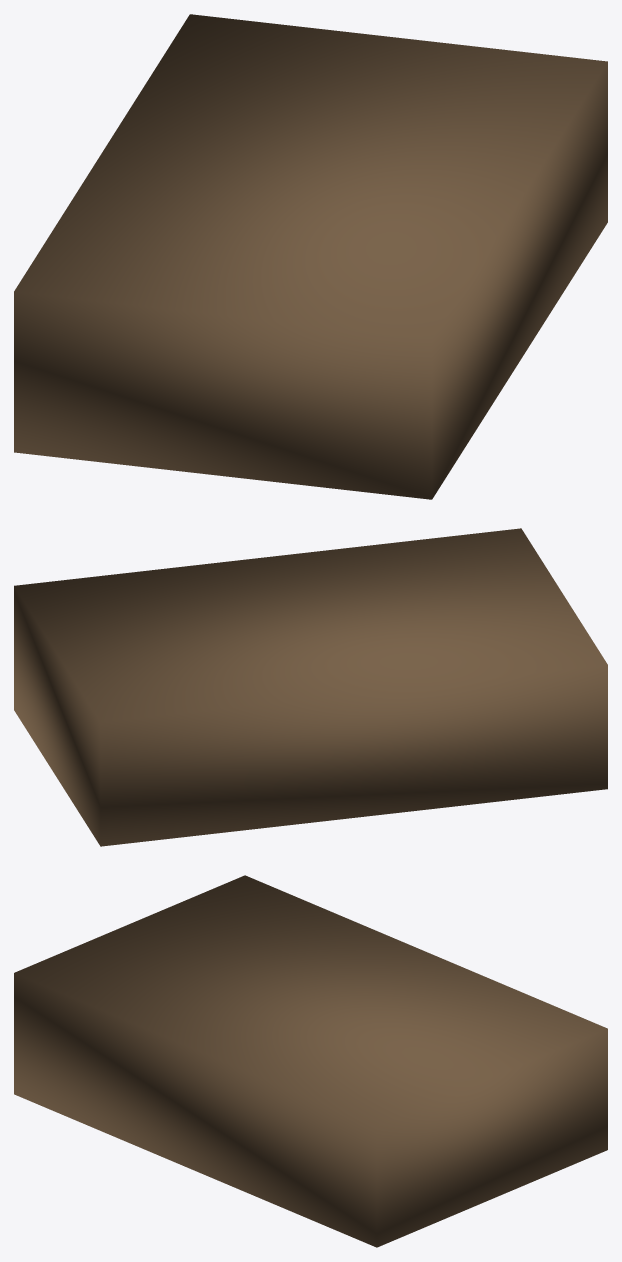
File: rpgpp_ag_wall_connector_bottom_corner_01b_3x3.fbx
3 renders of one model, top to bottom at view 1: azimuth 30°, elevation 25°; view 2: azimuth 150°, elevation 25°; view 3: azimuth 270°, elevation 25°, orthographic. The views are drawn at different scales.
Visible parts, largest first — view 1: rpgpp_ag_wall_connector_bottom_corner_01b_3x3; view 2: rpgpp_ag_wall_connector_bottom_corner_01b_3x3; view 3: rpgpp_ag_wall_connector_bottom_corner_01b_3x3.
Part boxes in pixels (bbox=[...]): rpgpp_ag_wall_connector_bottom_corner_01b_3x3: bbox=[14, 14, 607, 499]; rpgpp_ag_wall_connector_bottom_corner_01b_3x3: bbox=[14, 528, 607, 846]; rpgpp_ag_wall_connector_bottom_corner_01b_3x3: bbox=[14, 875, 607, 1247].
Size of the model in its own units: 1.31 by 0.2952 by 1.31.
